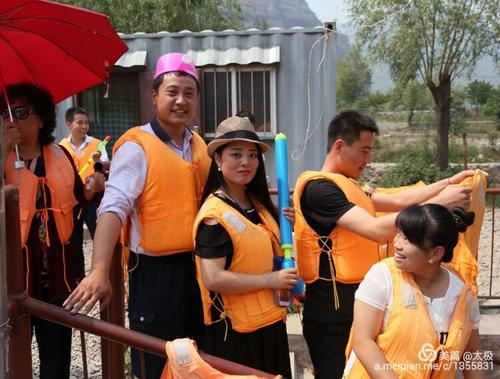reflective_clothes: (199, 170, 294, 337), (359, 253, 477, 379), (116, 111, 203, 275), (293, 159, 378, 303), (3, 129, 77, 252), (64, 131, 104, 199)
